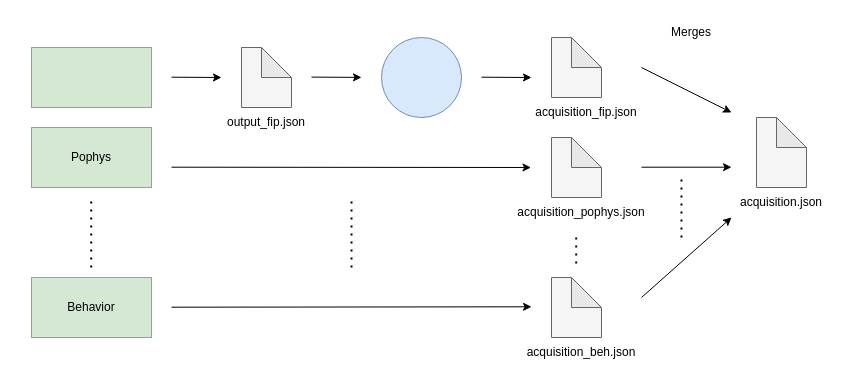
Image size: 844x389. Some labels were removed from this diagram. Each missing label, with the centre of its shape:
"Fip" belongs at (x=91, y=77).
"Mapper" belongs at (x=421, y=77).
